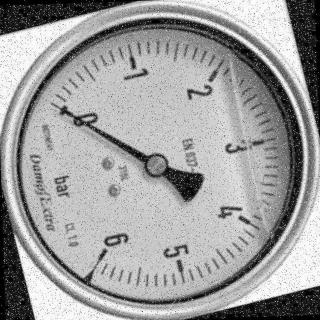gauge: (0, 0, 320, 320), (90, 233, 124, 267), (52, 97, 84, 128), (142, 153, 170, 179), (46, 97, 61, 113)
